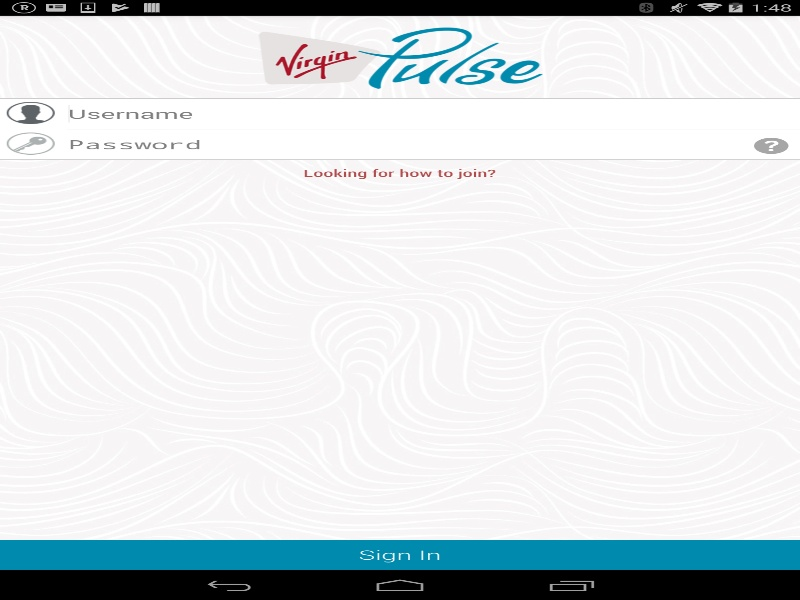Button: (0, 540, 800, 570)
Input: (61, 105, 786, 122), (61, 135, 742, 153)
